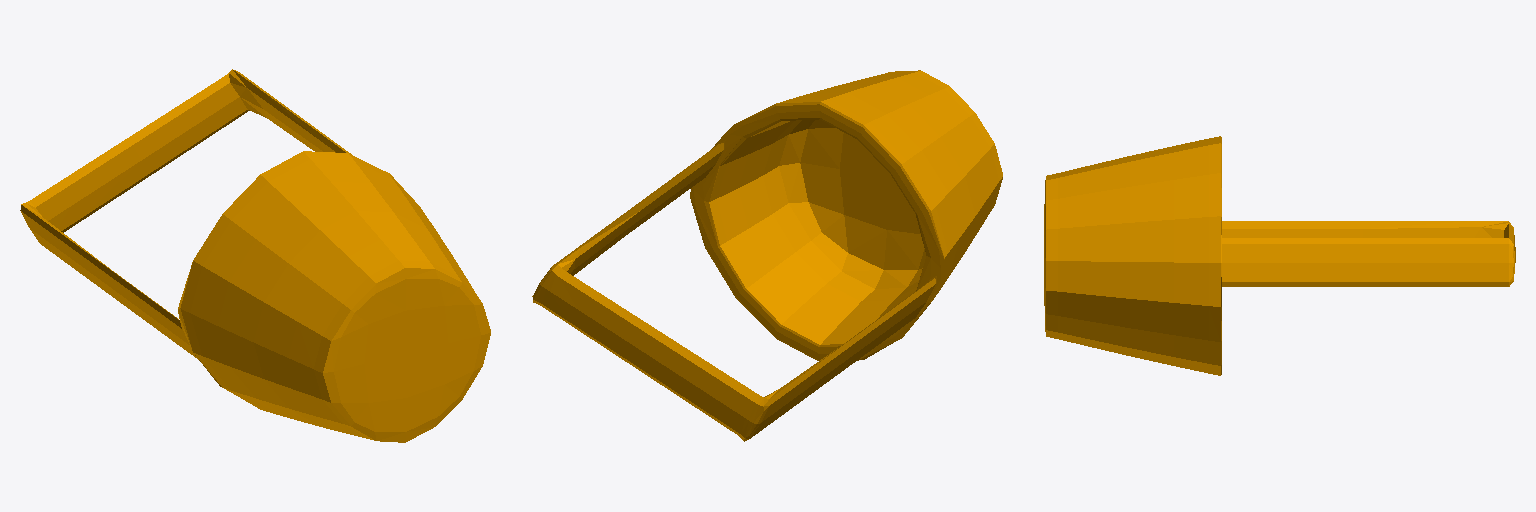
robot.urdf — 138:
<?xml version="1.0" ?>
<robot name="138">
  <link name="body">
    <visual>
      <geometry>
        <mesh filename="../shapes/138.obj"/>
      </geometry>
    </visual>
    <collision>
      <geometry>
        <mesh filename="../shapes/138.obj"/>
      </geometry>
    </collision>
  </link>
</robot>

--- Facts derived from the render (not from the file) ---
The picture shows the robot from 3 angles, left to right: view 1: azimuth 30°, elevation 25°; view 2: azimuth 150°, elevation 25°; view 3: azimuth 270°, elevation 25°; orthographic projection.
Robot: 138 — 1 links, 0 joints (none); root link body; default pose: all joints at 0.
Links seen in each view (by area): view 1: body; view 2: body; view 3: body.
Link boxes in pixels (x1,y1,x2,y2): body: [20, 69, 490, 442]; body: [532, 70, 1002, 441]; body: [1044, 136, 1515, 375].
Size in the robot's own frame: 2.88 by 5.32 by 2.8 metres.
1 mesh visuals loaded from 1 distinct referenced files (1 OBJ).